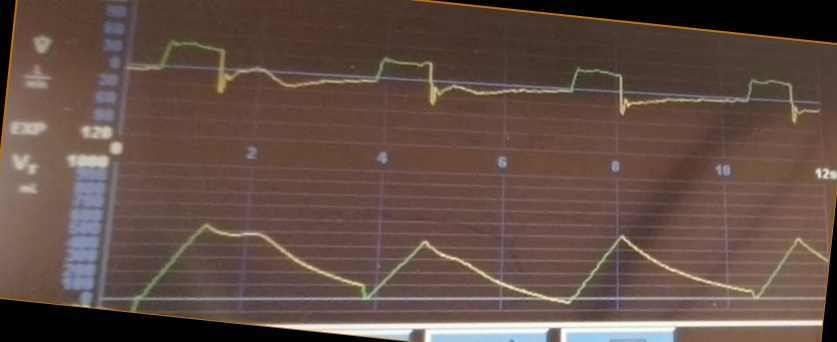Premature_cycling Flow: (135, 36, 816, 142)
Premature_cycling Volume: (117, 192, 825, 311)
